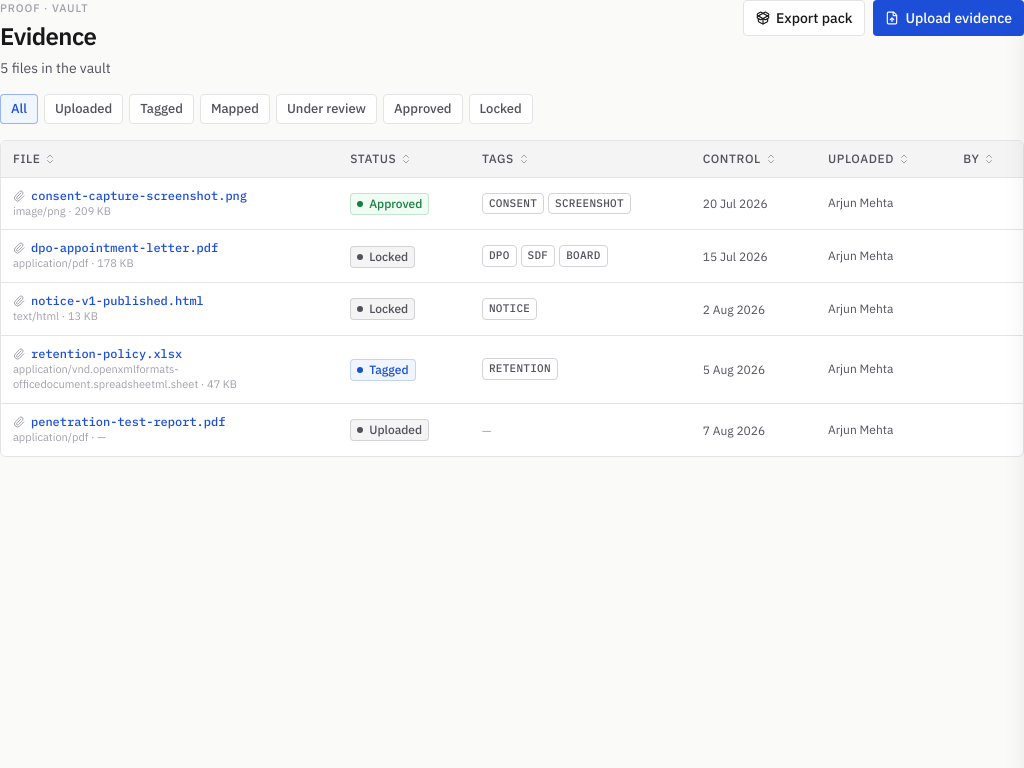
Test: EvidenceView (§9.10) › queues an export pack and reports the job id
Expected: the table is shown, 1,140 -> 1023,456
Click the button "Export pack" at [804, 18], box 743,0 -> 866,36
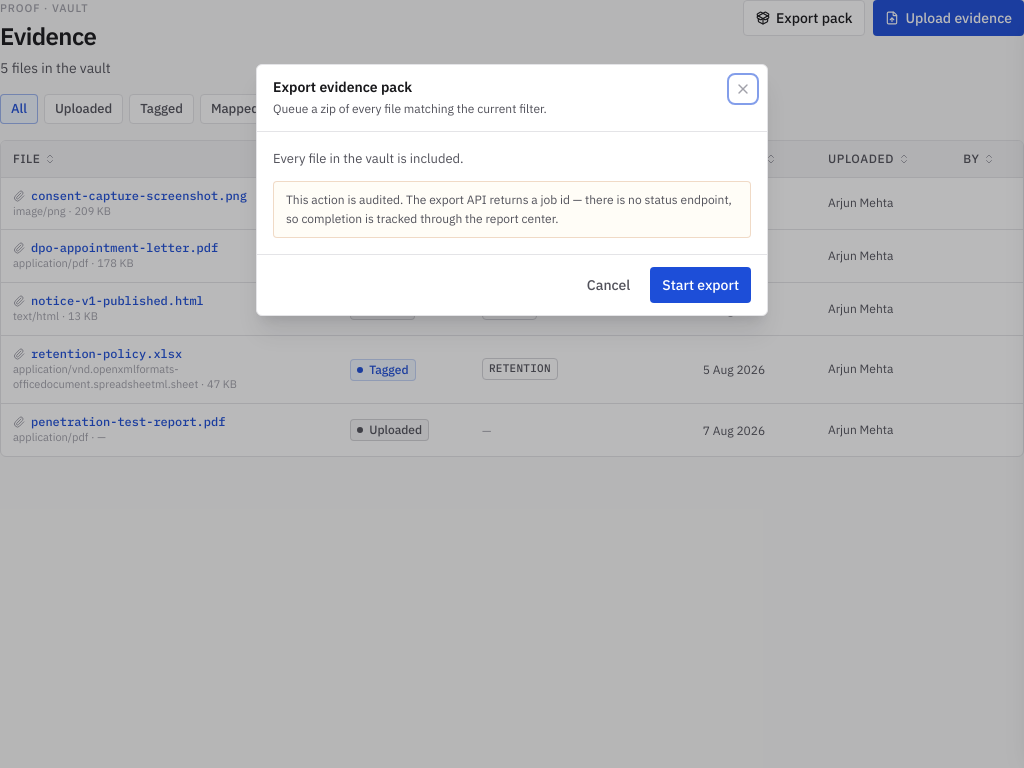
Click the button "Start export" at [701, 285], box 650,267 -> 751,303
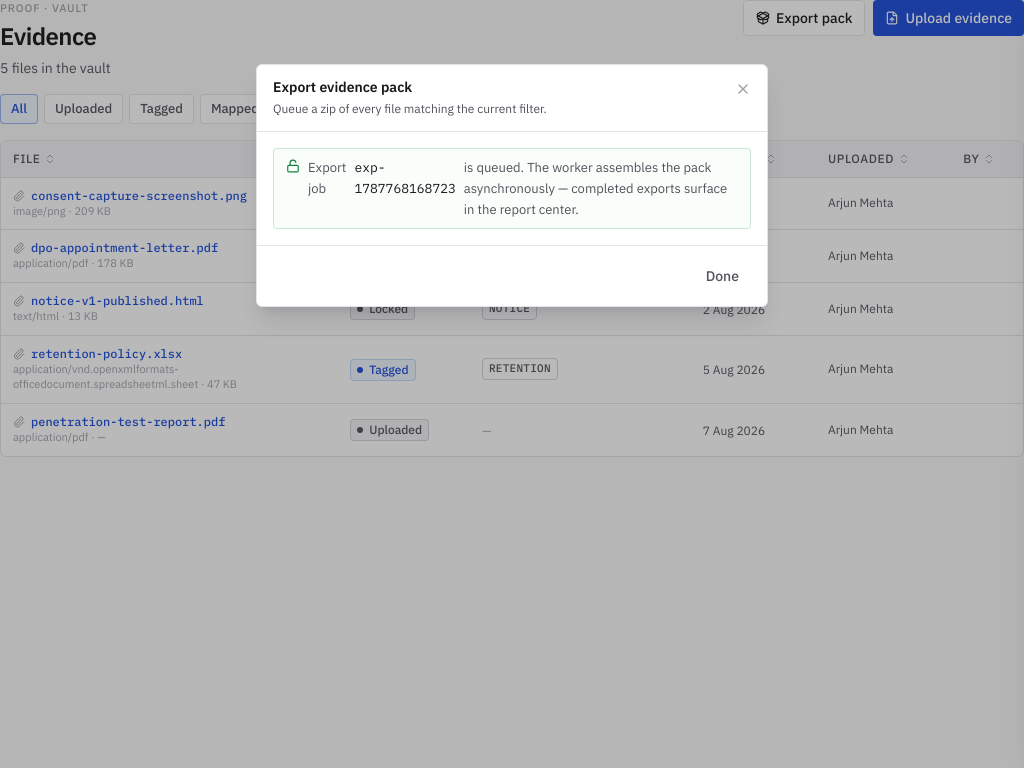
Result: the button "Done" is shown at 694,258 -> 751,294
Result: the text "surface in the report center" is shown at 464,158 -> 727,218
